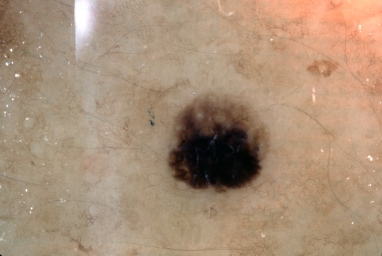seborrheic keratosis: (132, 77, 305, 205)
